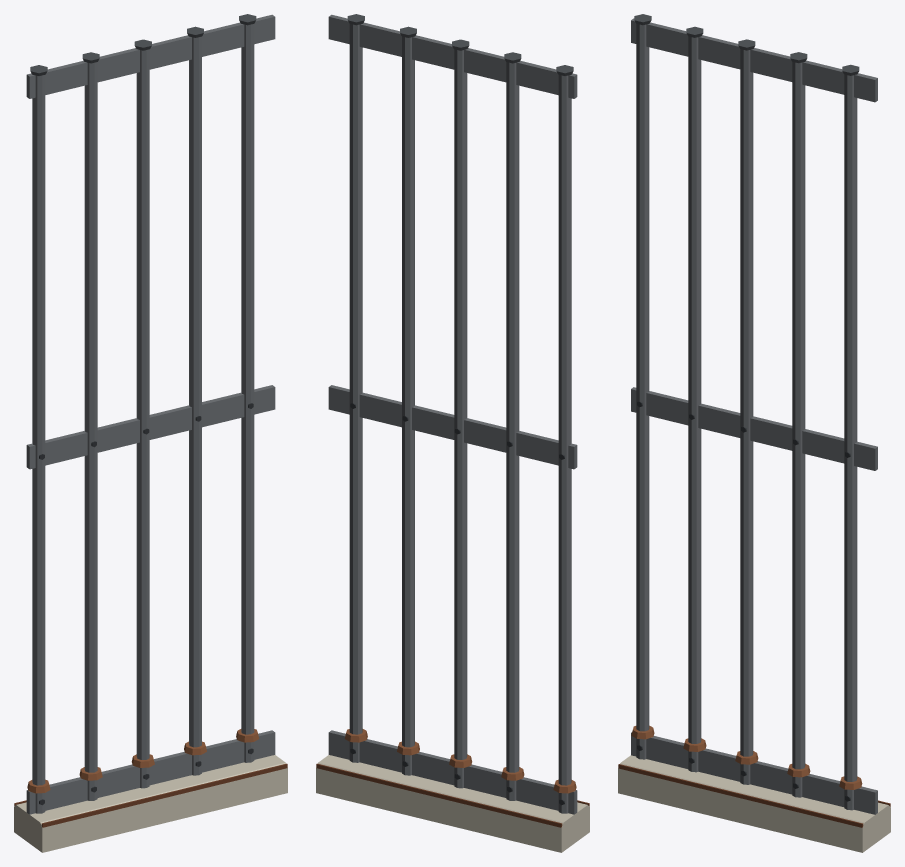
Rendered from SM_LPD_Prison_PartitionHalf_01.fbx.
3 views of the same model, side by side, from view 1: azimuth 30°, elevation 25°; view 2: azimuth 150°, elevation 25°; view 3: azimuth 330°, elevation 25° (orthographic).
Parts seen in each view (by area): view 1: SM_LPD_Prison_PartitionHalf_01; view 2: SM_LPD_Prison_PartitionHalf_01; view 3: SM_LPD_Prison_PartitionHalf_01.
Boxes of the visible parts, x1,y1,x2,y2 form: SM_LPD_Prison_PartitionHalf_01: (14, 14, 287, 852); SM_LPD_Prison_PartitionHalf_01: (316, 14, 589, 852); SM_LPD_Prison_PartitionHalf_01: (618, 14, 890, 852).
Size of the model in its own units: 0.8 by 2.4 by 0.16.
